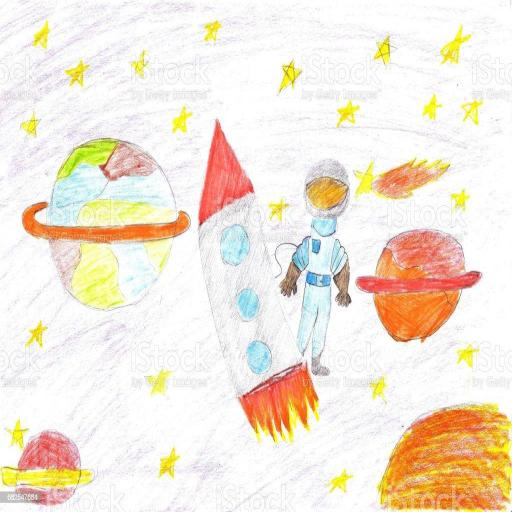person: (278, 154, 353, 375)
